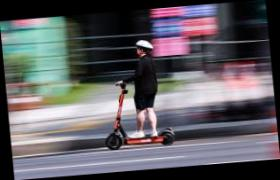helmet: (96, 37, 177, 151)
